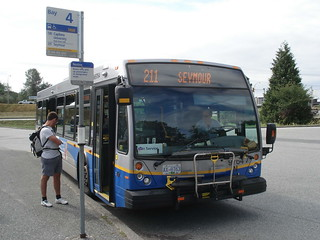bus: (35, 58, 276, 211)
